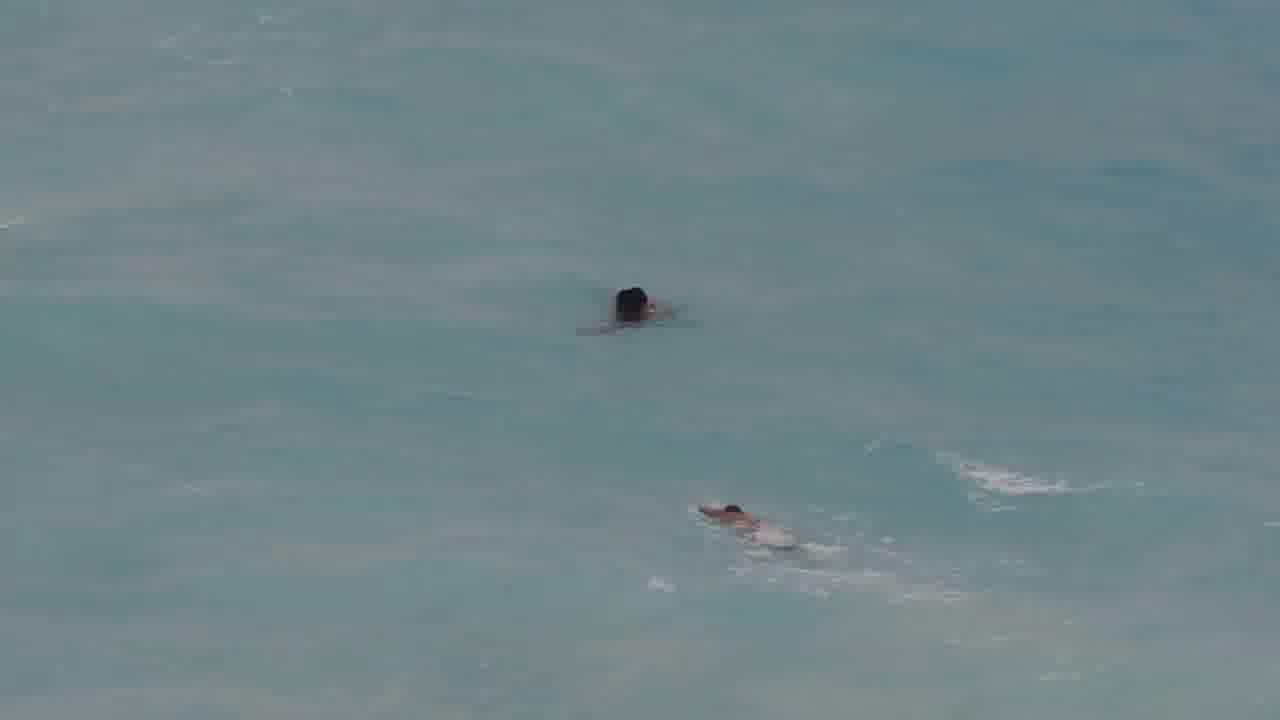human: (581, 279, 678, 338), (698, 497, 774, 543)
